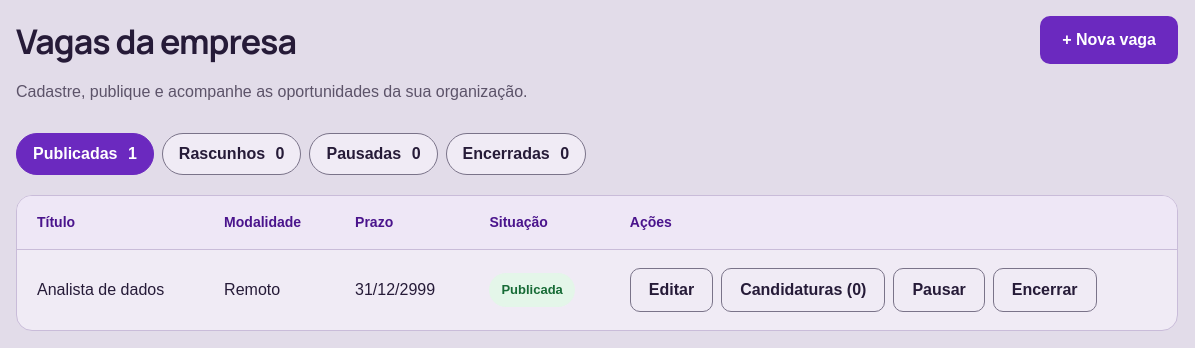
Test case: jobs panel › pauses a job and reloads
Click the button "Pausar".
click(939, 290)  # box [893,268,985,312]
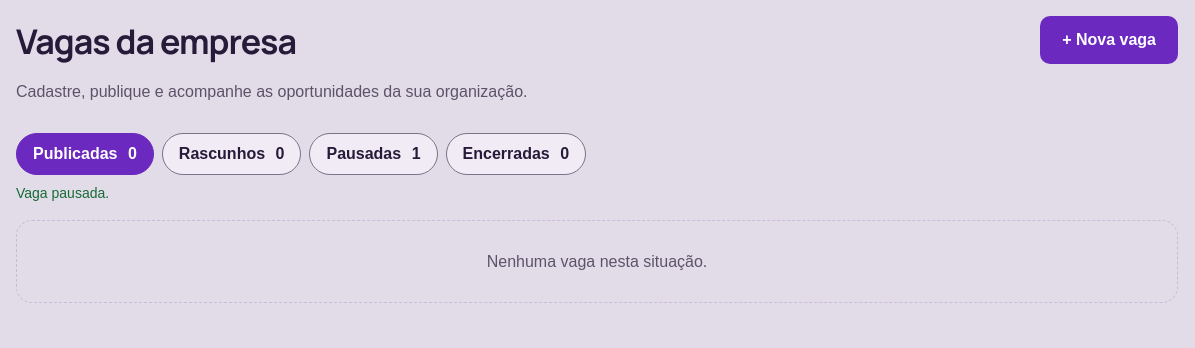
Expected: the text "Vaga pausada." is shown, [16,185,109,201]
